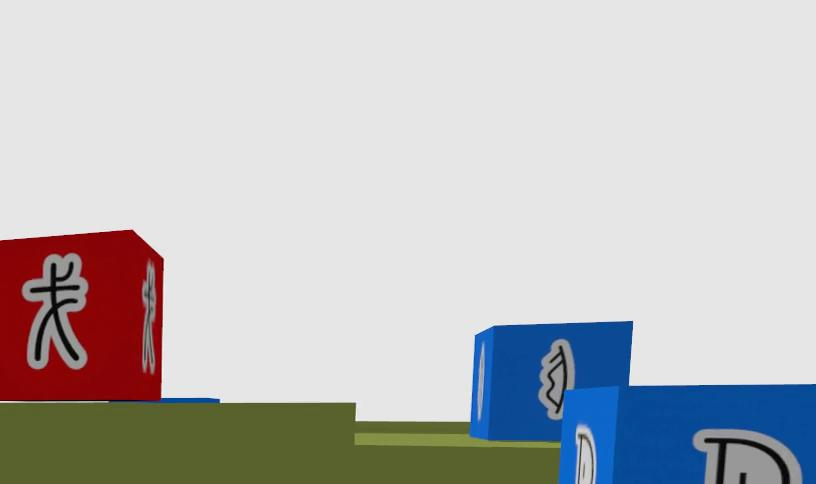KFS_FAKE: (0, 230, 163, 398), (23, 253, 87, 369), (141, 260, 158, 373)
KFS_REAL: (558, 384, 815, 484), (470, 321, 632, 443), (693, 428, 801, 484), (538, 339, 574, 419), (573, 424, 596, 484)
